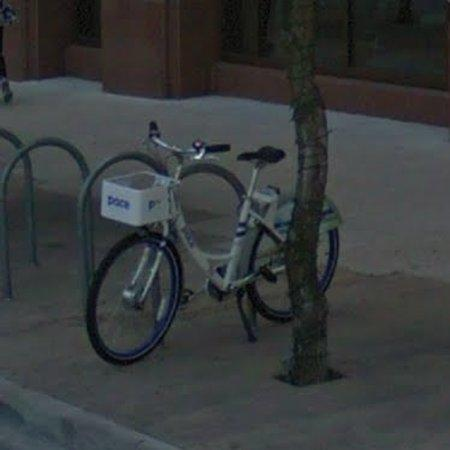bicycles: (79, 124, 292, 365)
